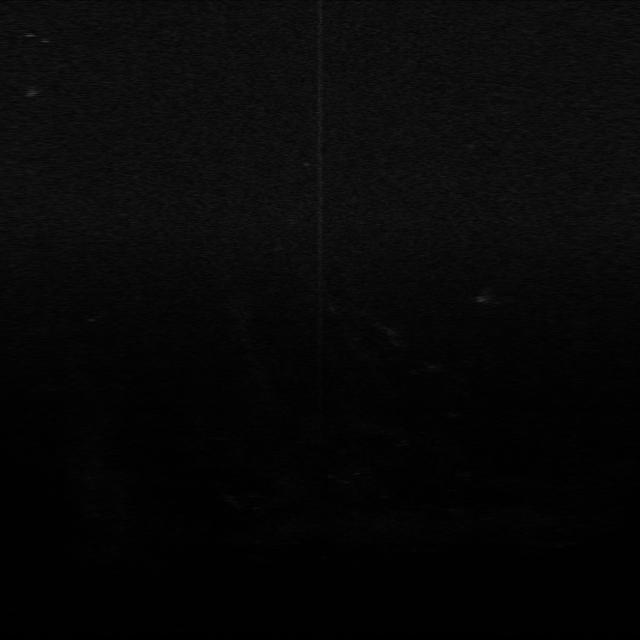rov: (22, 81, 47, 102)
